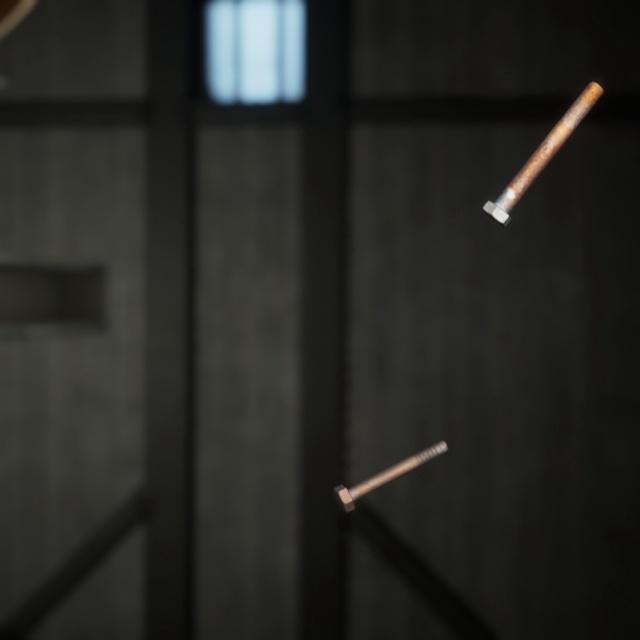bolt: (478, 63, 608, 217), (329, 415, 452, 496)
